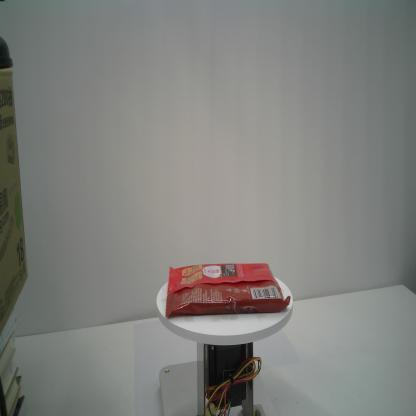Dessert: (165, 263, 291, 318)
